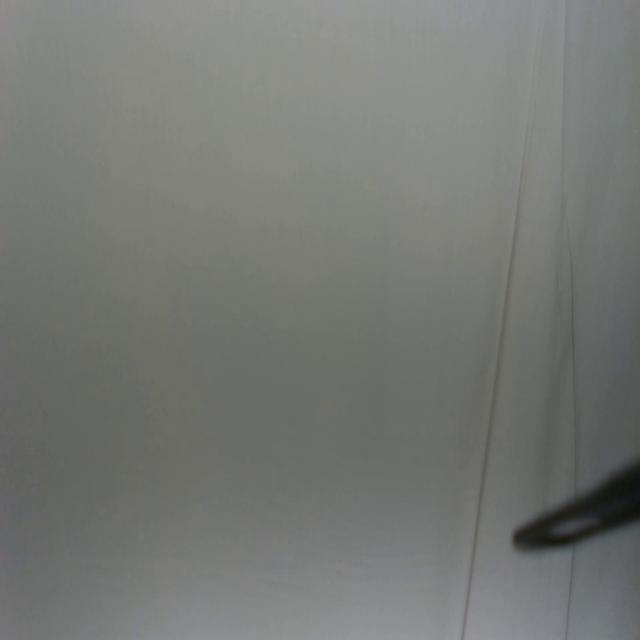crease: (462, 263, 511, 637), (565, 217, 580, 503), (562, 546, 577, 640)
